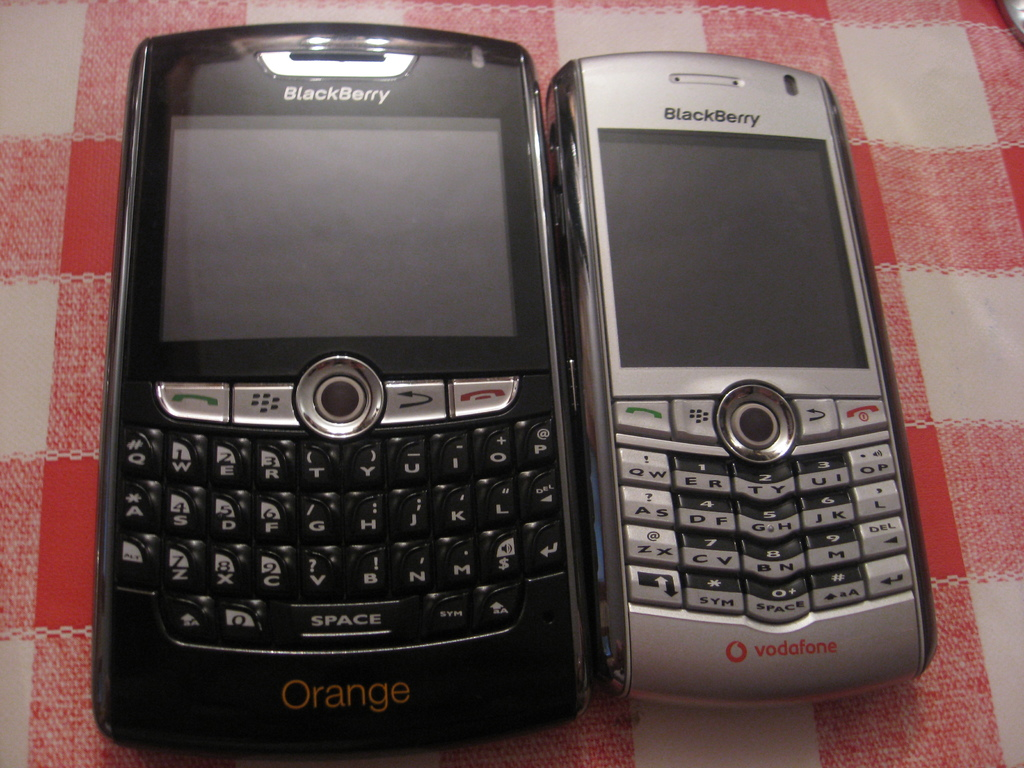mobile phone: (111, 21, 587, 753), (551, 69, 935, 704)
